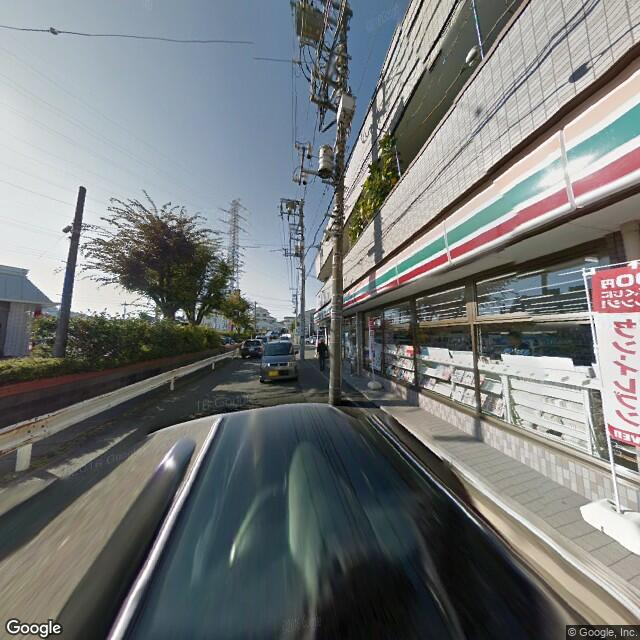7-eleven: (340, 71, 638, 316)
